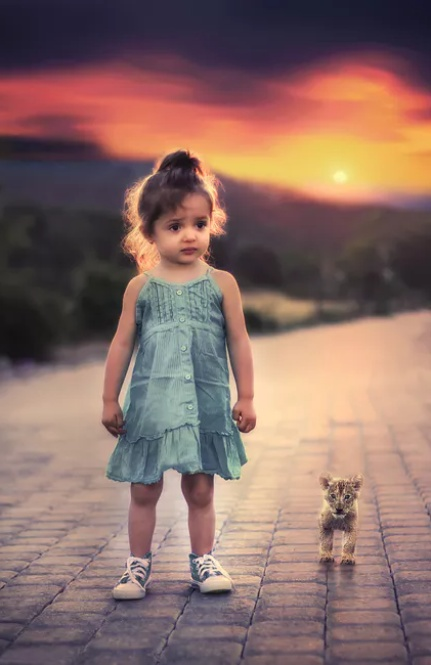face: (151, 194, 211, 265)
